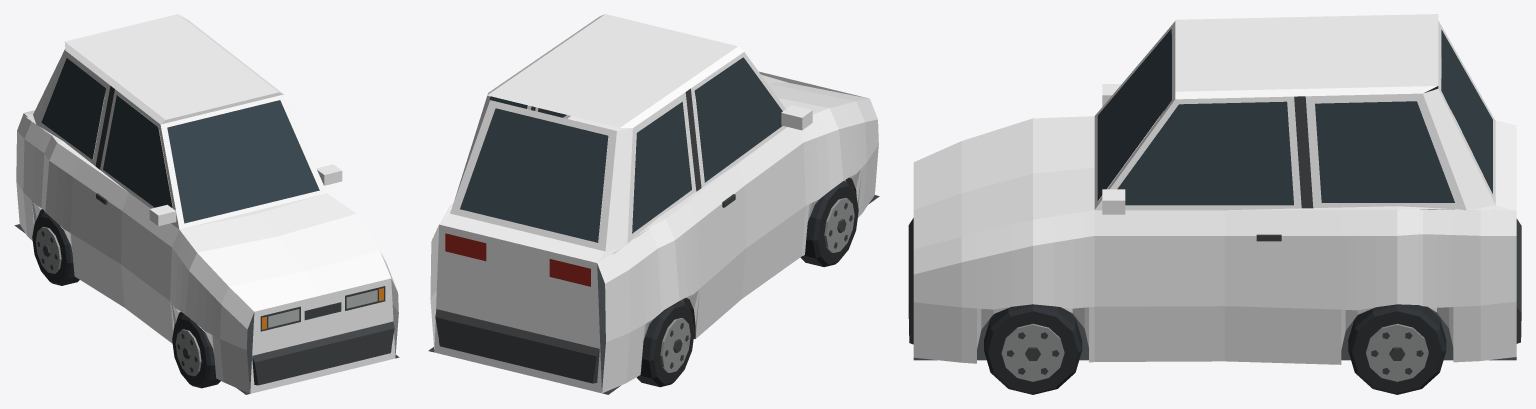
The model's file is tomoe_niji_s.glb.
3 views of the same model, side by side, from view 1: azimuth 30°, elevation 25°; view 2: azimuth 150°, elevation 25°; view 3: azimuth 270°, elevation 25° (orthographic). The views are drawn at different scales.
Visible parts, largest first — view 1: tomoe_niji_s; view 2: tomoe_niji_s; view 3: tomoe_niji_s.
Part boxes in pixels (x1,y1,x2,y2): tomoe_niji_s: (14, 14, 399, 394); tomoe_niji_s: (428, 14, 879, 394); tomoe_niji_s: (908, 14, 1521, 394).
Bounding box in the file's own units: 1.43 × 1.67 × 3.18.
8 materials, 1 textured.
